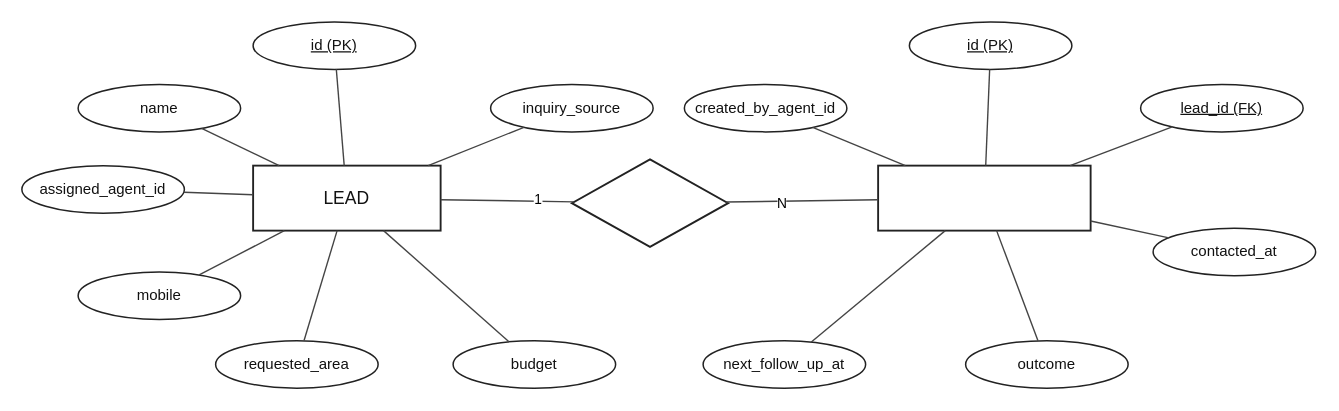
Image size: 1339x411. Some labels were removed from this diagram. Each missing label, with the centre of its shape:
"FOLLOW_UP" goes at pixel 984 197.
"HAS" goes at pixel 649 202.
